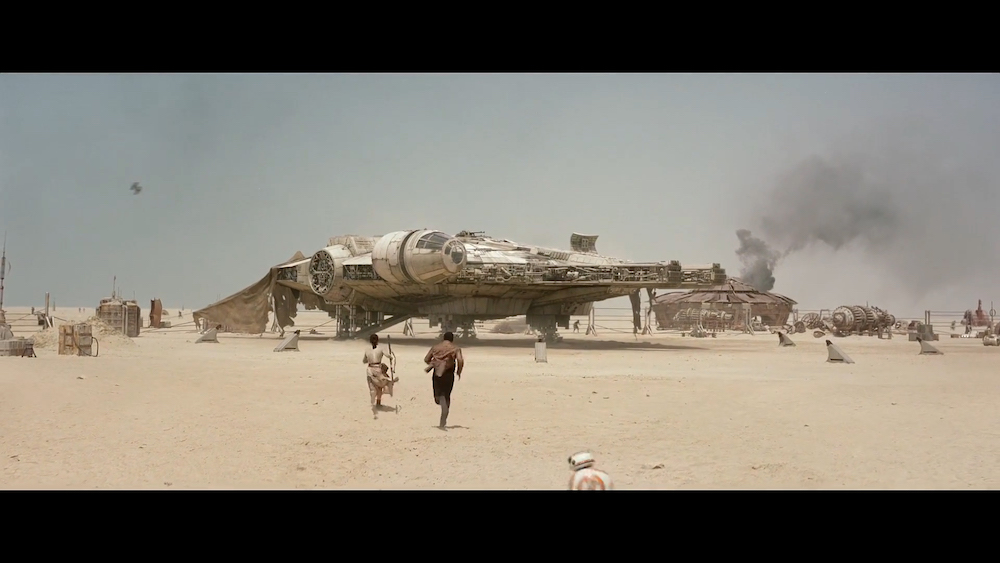Millennium Falcon: (272, 229, 729, 317)
Tie Fighter: (131, 183, 143, 196)
